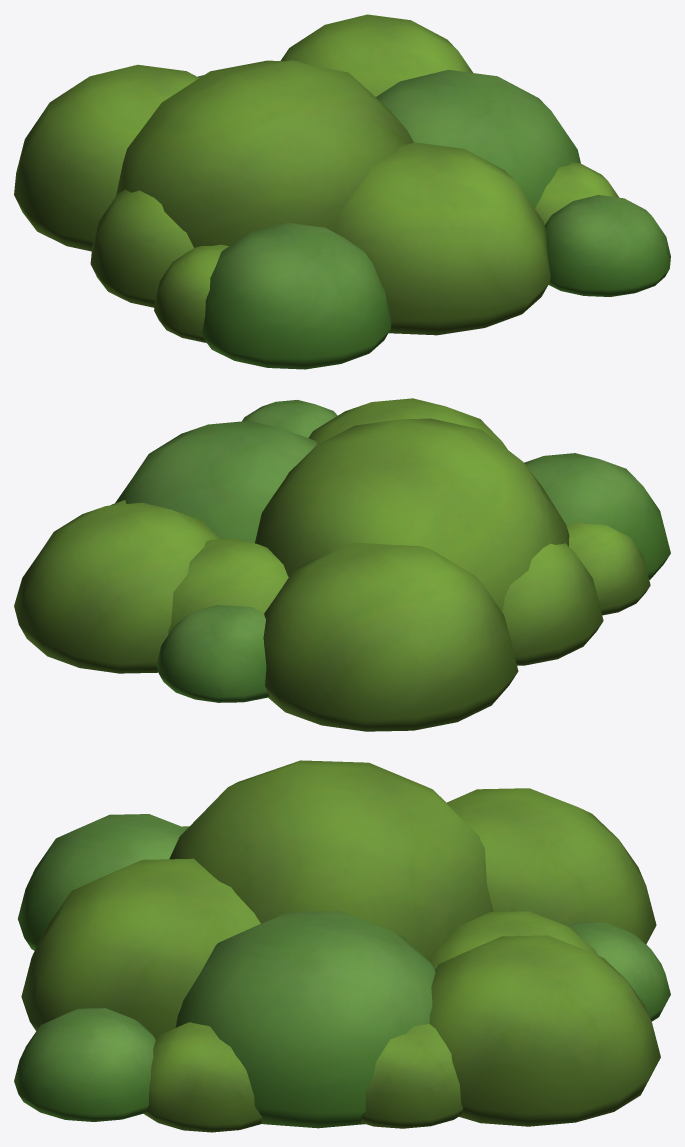
Rendered from Hills3.fbx.
3 views of the same model, one above another, from view 1: azimuth 30°, elevation 25°; view 2: azimuth 150°, elevation 25°; view 3: azimuth 270°, elevation 25° (orthographic). The views are drawn at different scales.
Parts seen in each view (by area): view 1: pCube54, pCube42, pCube39, pCube31, pCube40, pCube43, pCube44, pCube32, pCube34, pCube47; view 2: pCube31, pCube54, pCube44, pCube40, pCube37, pCube32, pCube39, pCube35, pCube34, pCube42, pCube43; view 3: pCube54, pCube40, pCube44, pCube42, pCube31, pCube43, pCube47, pCube39, pCube41, pCube37, pCube35.
Part boxes in pixels (box(x1,y1,x2,y2)): pCube54: box(116, 60, 413, 247); pCube42: box(334, 142, 550, 335); pCube39: box(202, 223, 391, 369); pCube31: box(14, 64, 199, 251); pCube40: box(376, 69, 580, 208); pCube43: box(544, 195, 670, 296); pCube44: box(280, 14, 472, 96); pCube32: box(90, 189, 193, 307); pCube34: box(154, 244, 229, 342); pCube47: box(535, 162, 618, 225); pCube31: box(263, 542, 518, 731); pCube54: box(255, 418, 569, 611); pCube44: box(14, 502, 219, 673); pCube40: box(115, 420, 317, 543); pCube37: box(156, 605, 269, 702); pCube32: box(502, 543, 603, 665); pCube39: box(524, 453, 670, 579); pCube35: box(168, 538, 288, 634); pCube34: box(566, 522, 650, 615); pCube42: box(308, 398, 507, 449); pCube43: box(242, 400, 337, 437); pCube54: box(169, 760, 493, 959); pCube40: box(175, 911, 435, 1128); pCube44: box(429, 935, 660, 1126); pCube42: box(21, 858, 260, 1038); pCube31: box(447, 788, 656, 944); pCube43: box(14, 1008, 155, 1121); pCube47: box(143, 1022, 261, 1132); pCube39: box(18, 814, 186, 950); pCube41: box(361, 1024, 462, 1128); pCube37: box(568, 922, 670, 1021); pCube35: box(428, 911, 598, 968).
Size of the model in its own units: 240 by 92 by 257.
